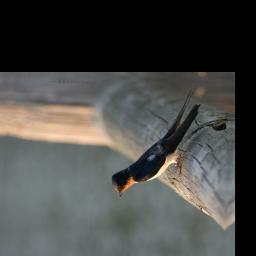Swallow: (106, 84, 203, 204)
